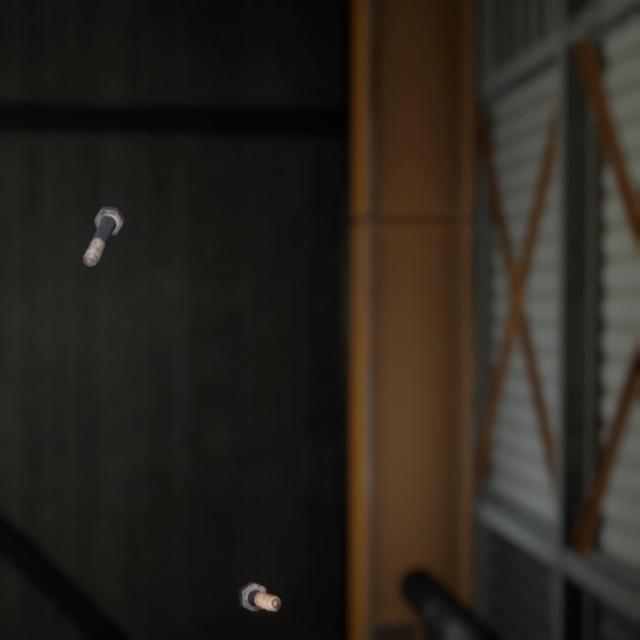bolt: (78, 186, 129, 255), (234, 554, 285, 593)
